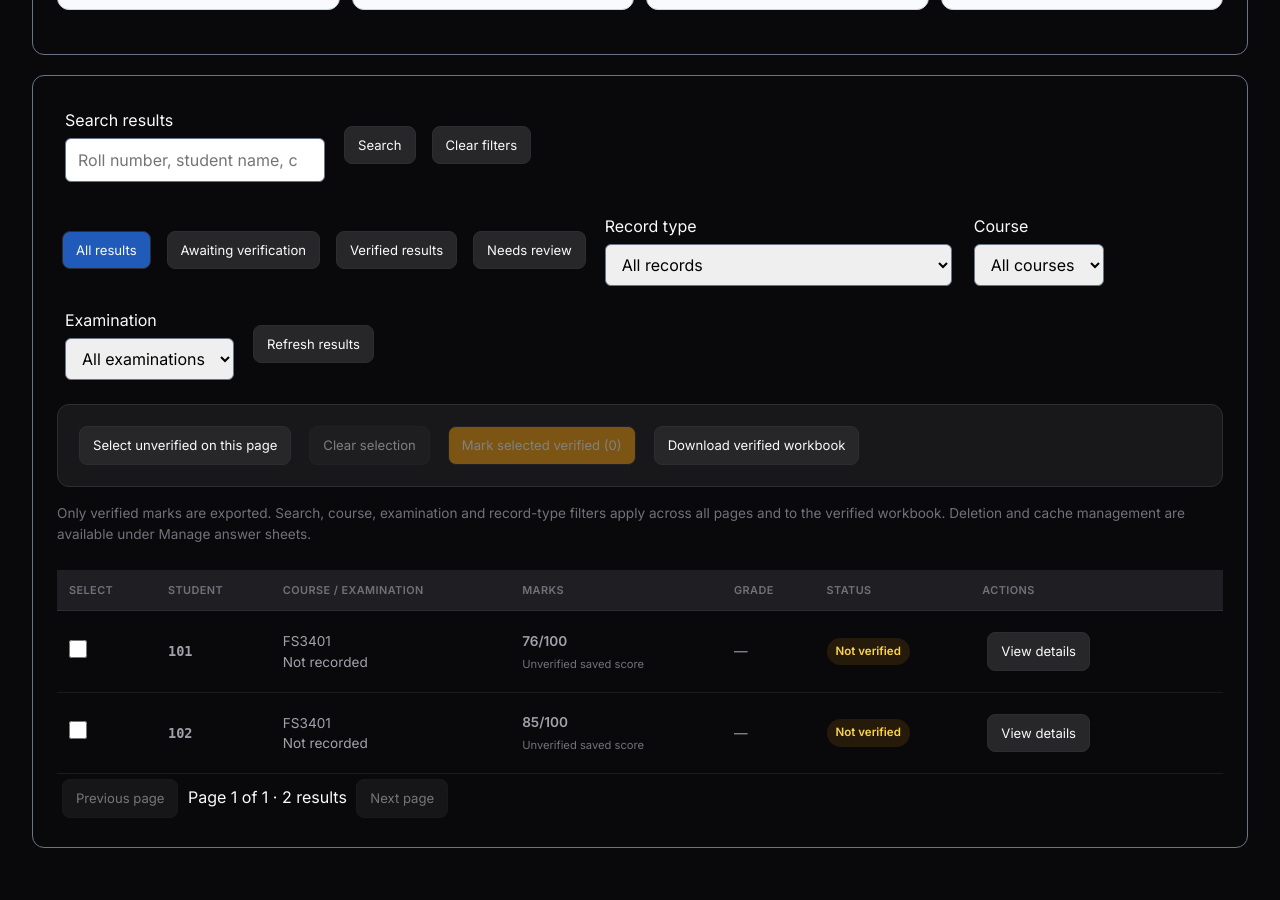
Test: details retrieve full saved feedback and dismiss outside
This screenshot has width=1280, height=900.
(page scrolled)
Check: the text "76/100" is shown, box [522,633,567,649]
What coordinates should you click on to do the following:
click the button "View details" in the row of "101"
I would click on:
 (1039, 652)
Its box is [987,632,1090,671].
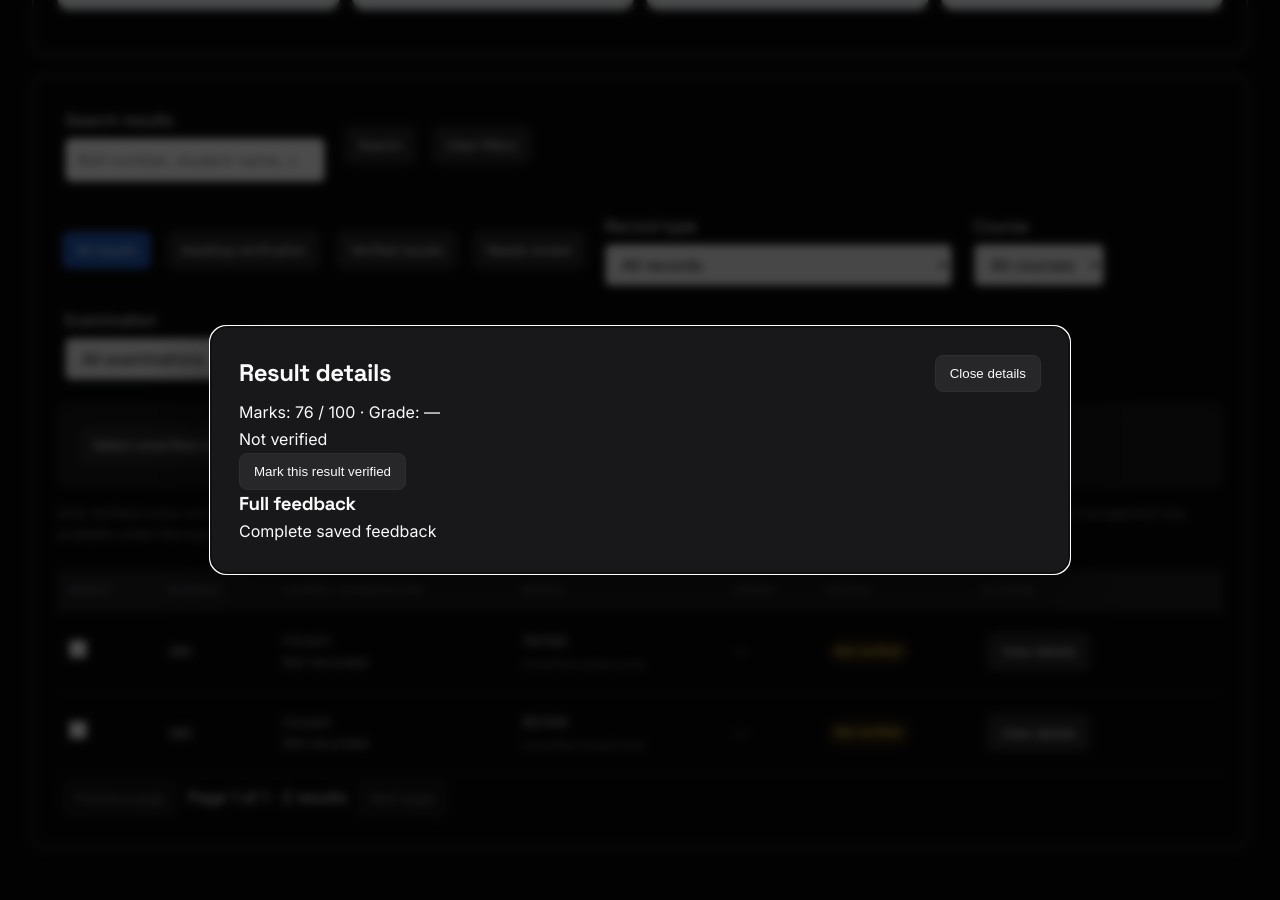
Check: the text "Complete saved feedback" is shown, box [239,521,436,541]
What coordinates should you click on to do the following:
click the element with test id "result-details-backdrop"
I would click on:
 (77, 450)
Its box is [0,0,1279,899].
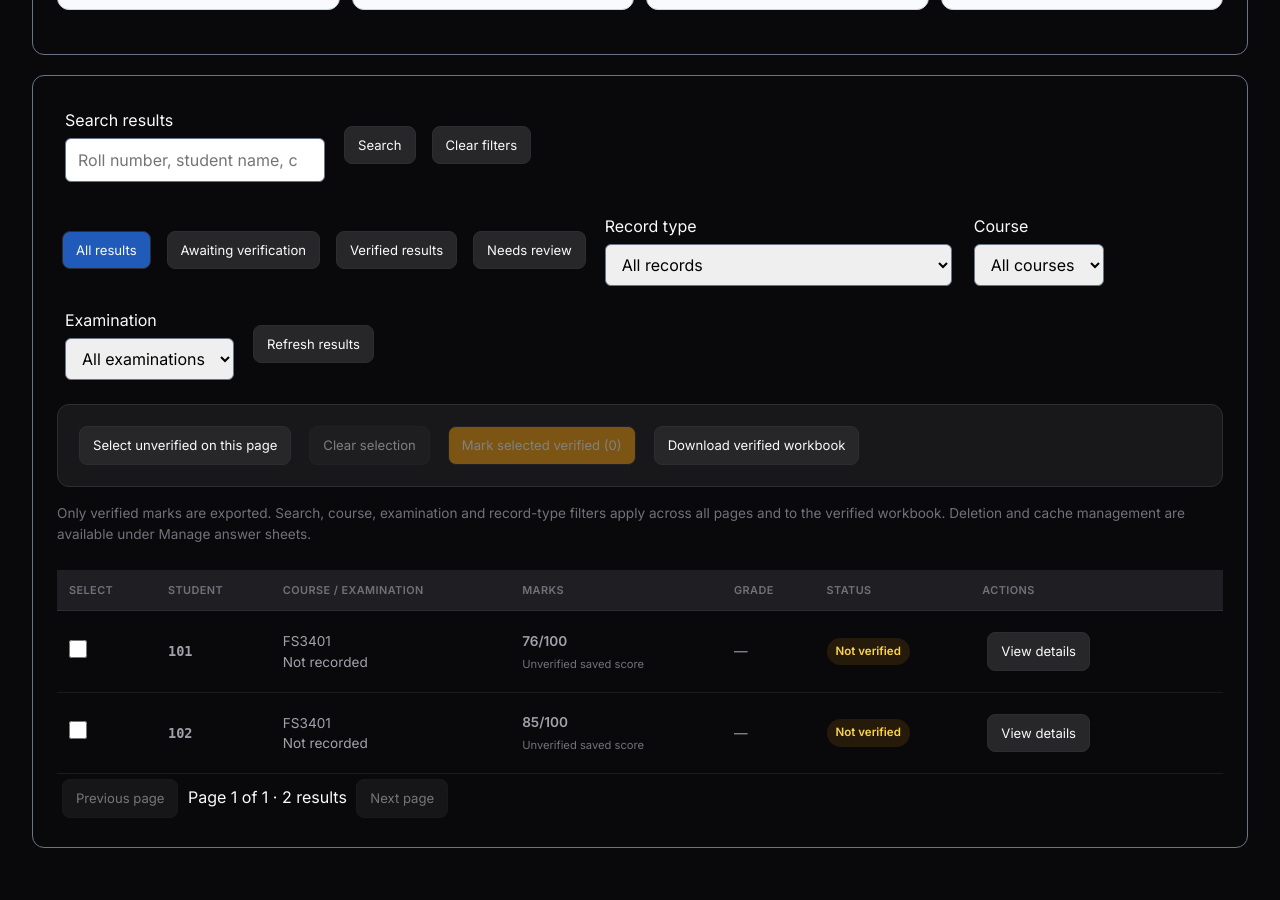
Check: the dialog is gone
